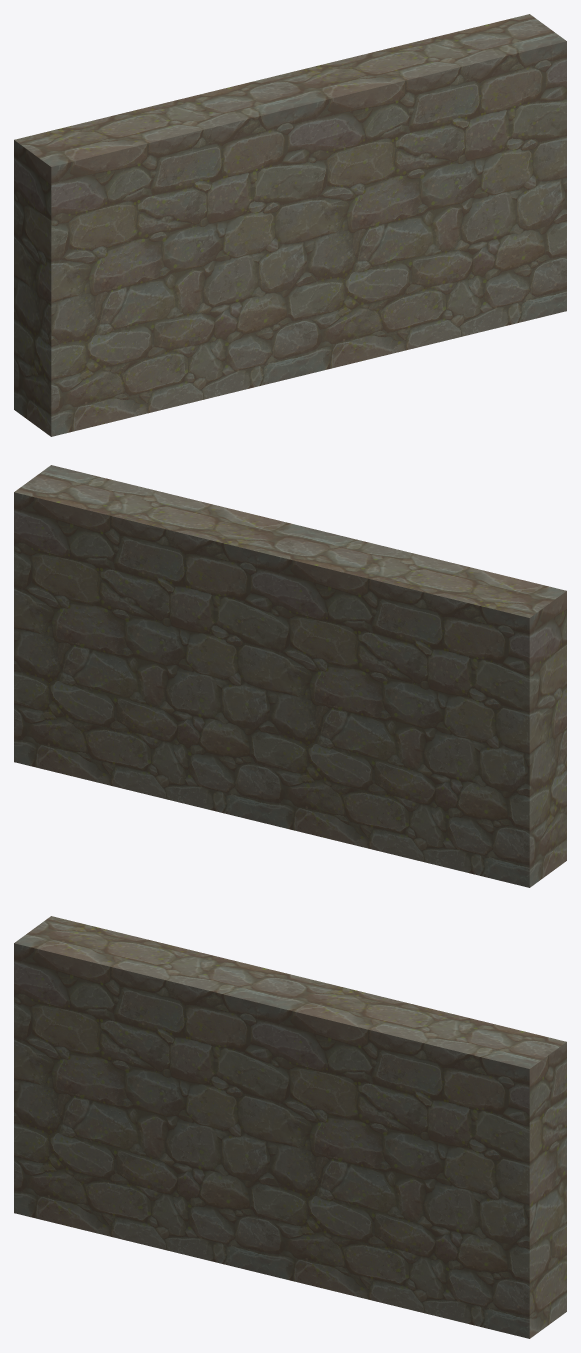
Rendered from SM_FW01_Ruins_Int_Wall_A_4x2_01.fbx.
The picture shows the model from 3 angles, top to bottom: view 1: azimuth 30°, elevation 25°; view 2: azimuth 150°, elevation 25°; view 3: azimuth 330°, elevation 25°; orthographic projection.
Parts seen in each view (by area): view 1: SM_FW01_Ruins_Int_Wall_A_4x2_01; view 2: SM_FW01_Ruins_Int_Wall_A_4x2_01; view 3: SM_FW01_Ruins_Int_Wall_A_4x2_01.
Part boxes in pixels (left/top/right/bottom): SM_FW01_Ruins_Int_Wall_A_4x2_01: left=14, top=14, right=566, bottom=436; SM_FW01_Ruins_Int_Wall_A_4x2_01: left=14, top=465, right=566, bottom=887; SM_FW01_Ruins_Int_Wall_A_4x2_01: left=14, top=916, right=566, bottom=1338.
Size of the model in its own units: 4 by 2 by 0.5.
